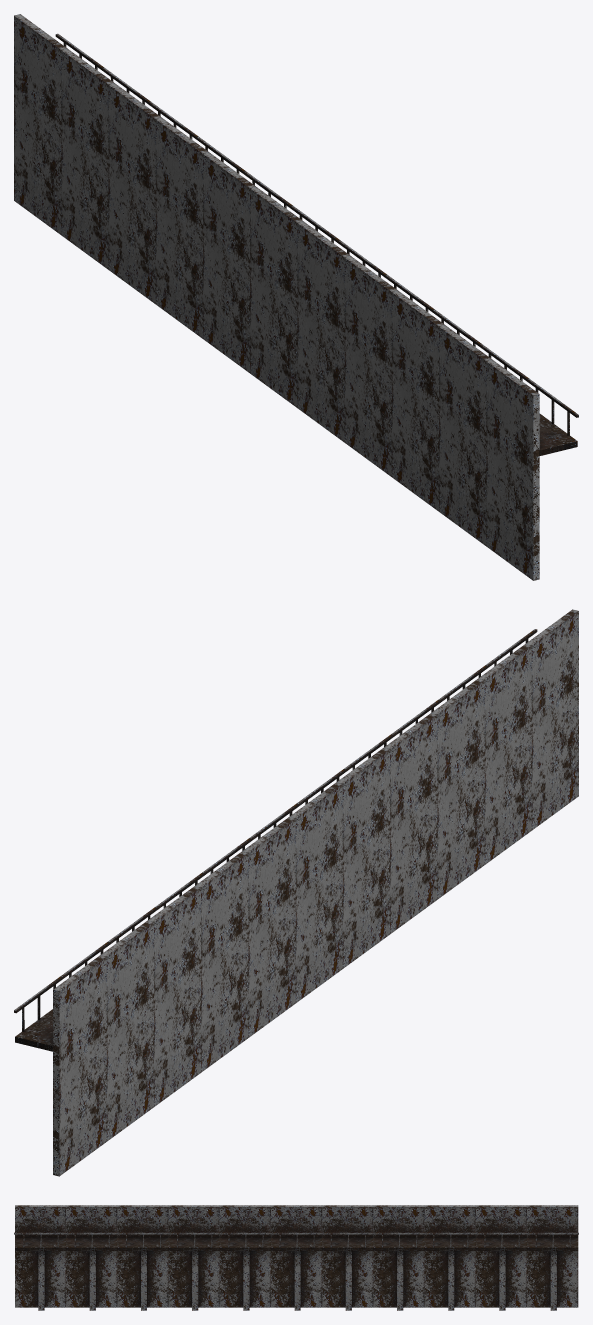
Rendered from Whole wall.fbx.
The picture shows the model from 3 angles, top to bottom: view 1: azimuth 30°, elevation 25°; view 2: azimuth 150°, elevation 25°; view 3: azimuth 270°, elevation 25°; orthographic projection. The views are drawn at different scales.
Parts seen in each view (by area): view 1: Box9 (×11), pCube77; view 2: Box9 (×11), pCube77; view 3: Box9 (×11), pCube77 (×11).
Part boxes in pixels (x1,y1,x2,y2): Box9 (×11): (14,14,539,580); pCube77: (528,380,578,455); Box9 (×11): (53,609,578,1176); pCube77: (14,975,64,1051); Box9 (×11): (15,1205,578,1307); pCube77 (×11): (14,1232,578,1310).
Bounding box in the file's own units: 219 × 869 × 4413.
Materials: 1 (1 with a texture image).
